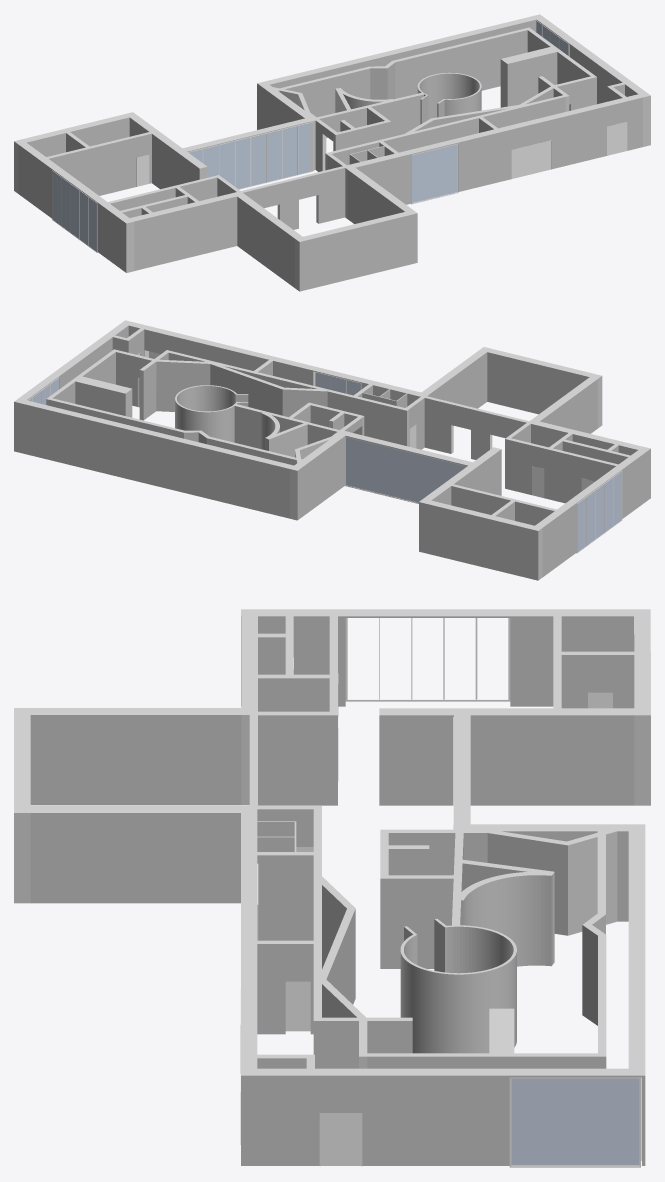
File: VDNH_NN_GLB.glb
The picture shows the model from 3 angles, top to bottom: view 1: azimuth 30°, elevation 25°; view 2: azimuth 150°, elevation 25°; view 3: azimuth 270°, elevation 25°; orthographic projection. The views are drawn at different scales.
Size of the model in its own units: 0.0665 by 0.0061 by 0.0383.
